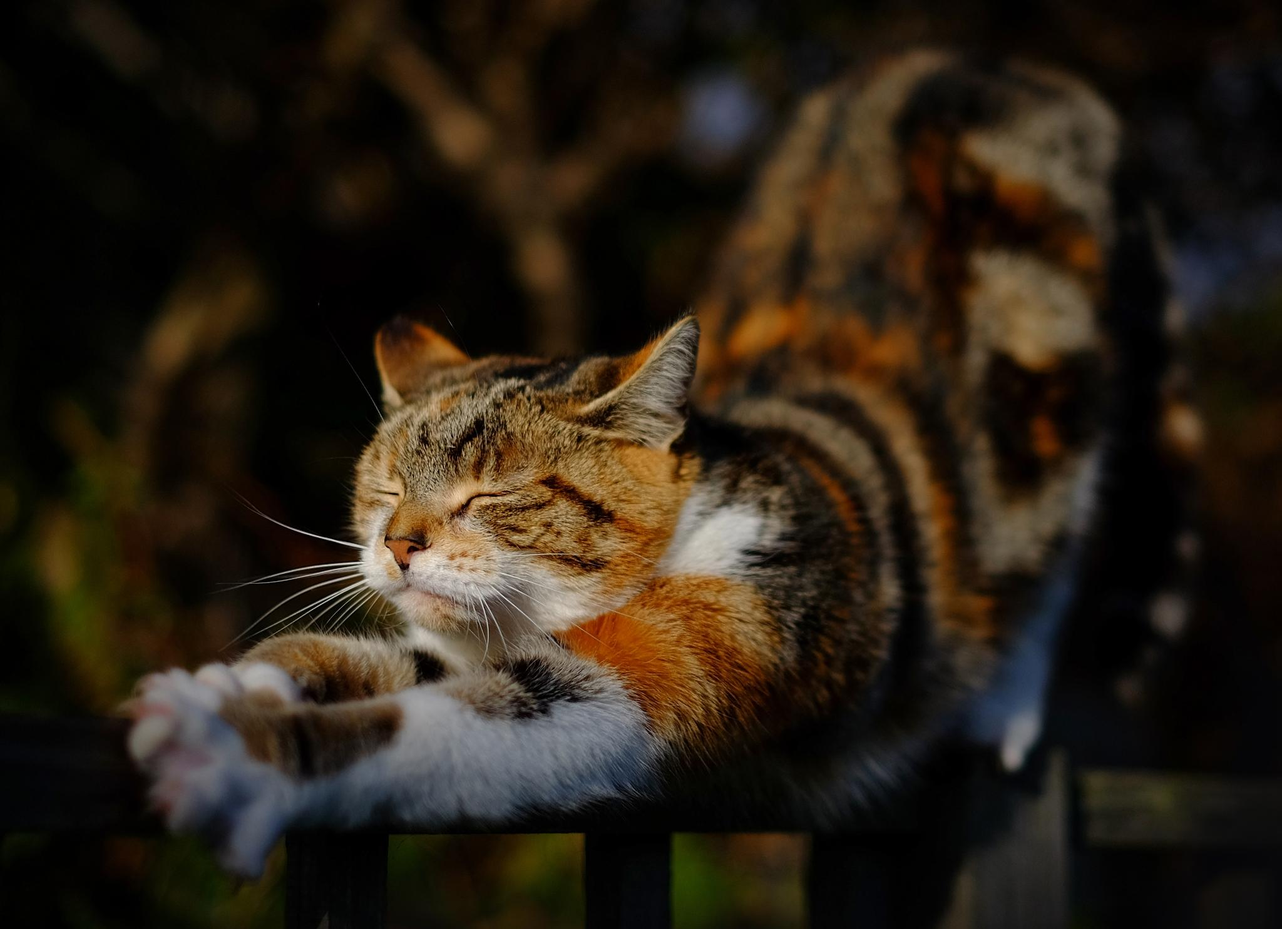cat: (117, 44, 1164, 877)
